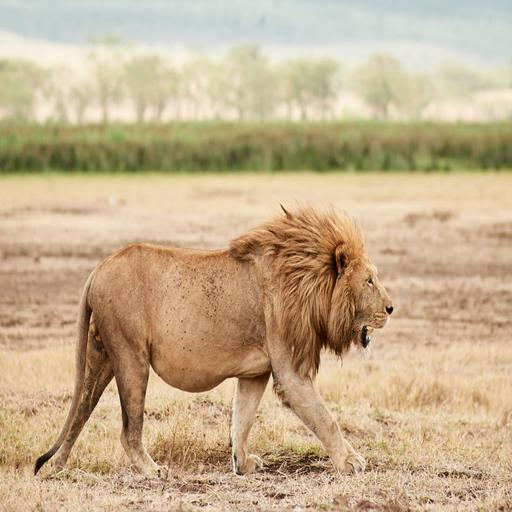Lion: (16, 198, 398, 498)
